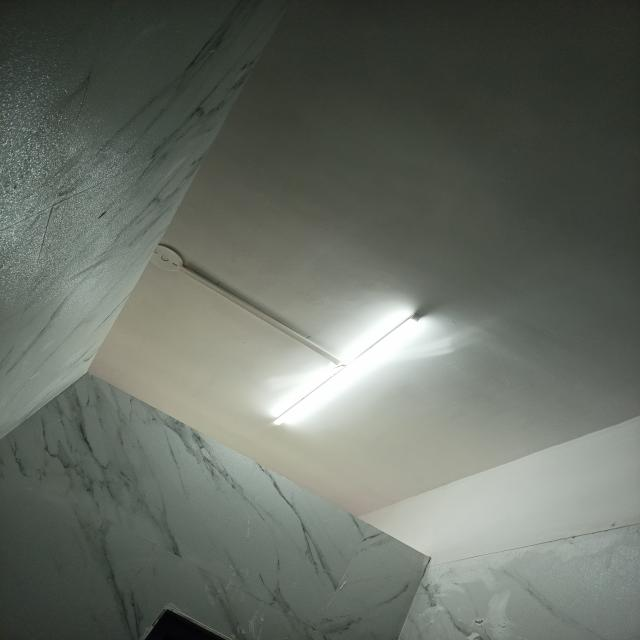light_on: (270, 311, 425, 428)
